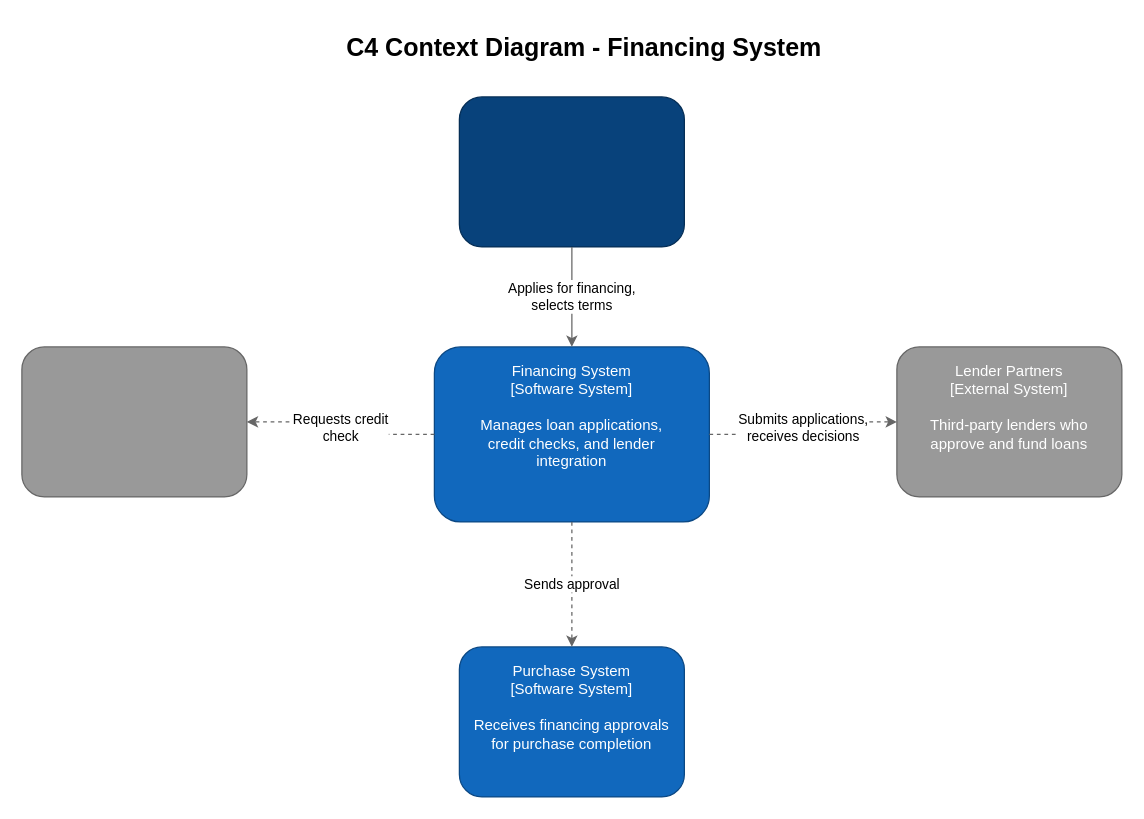
The diagram is 1144 pixels wide and 819 high, and some of its shapes have lost their labels. The centre of each missing label's shape, as x and y in pixels:
"Car Buyer [Person] Customer applying for vehicle financing" goes at point 571,171.
"Credit Bureau [External System] Provides credit scores and history reports" goes at point 134,421.
